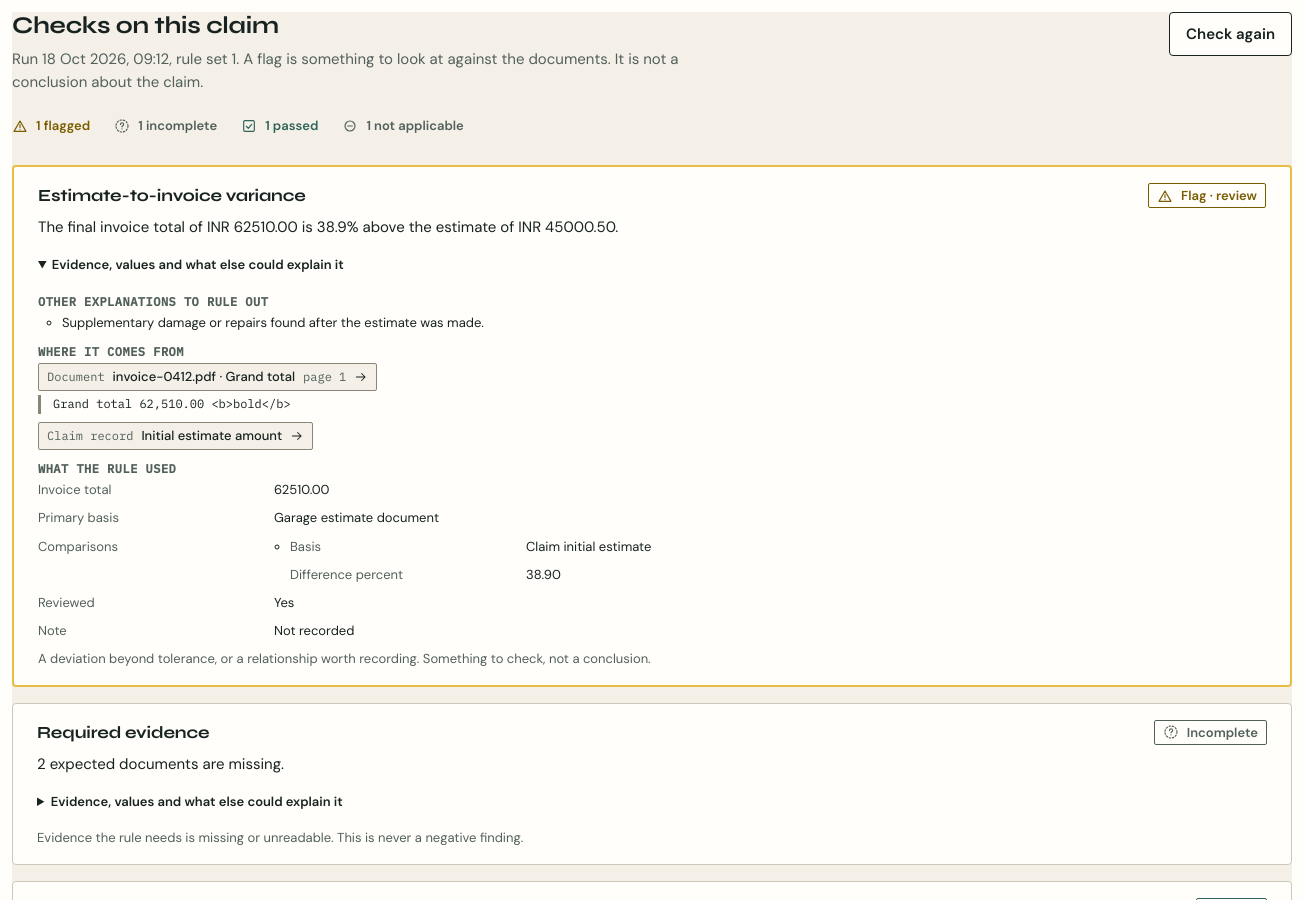
Test: a stored run › keeps routine results folded and states what a missing document means
Expected: the text "never a negative finding" is shown, [37,829,523,846]
Click the heading "Evidence, values and what else could explain it" below "Required evidence" at [265, 801], box [51,792,479,810]
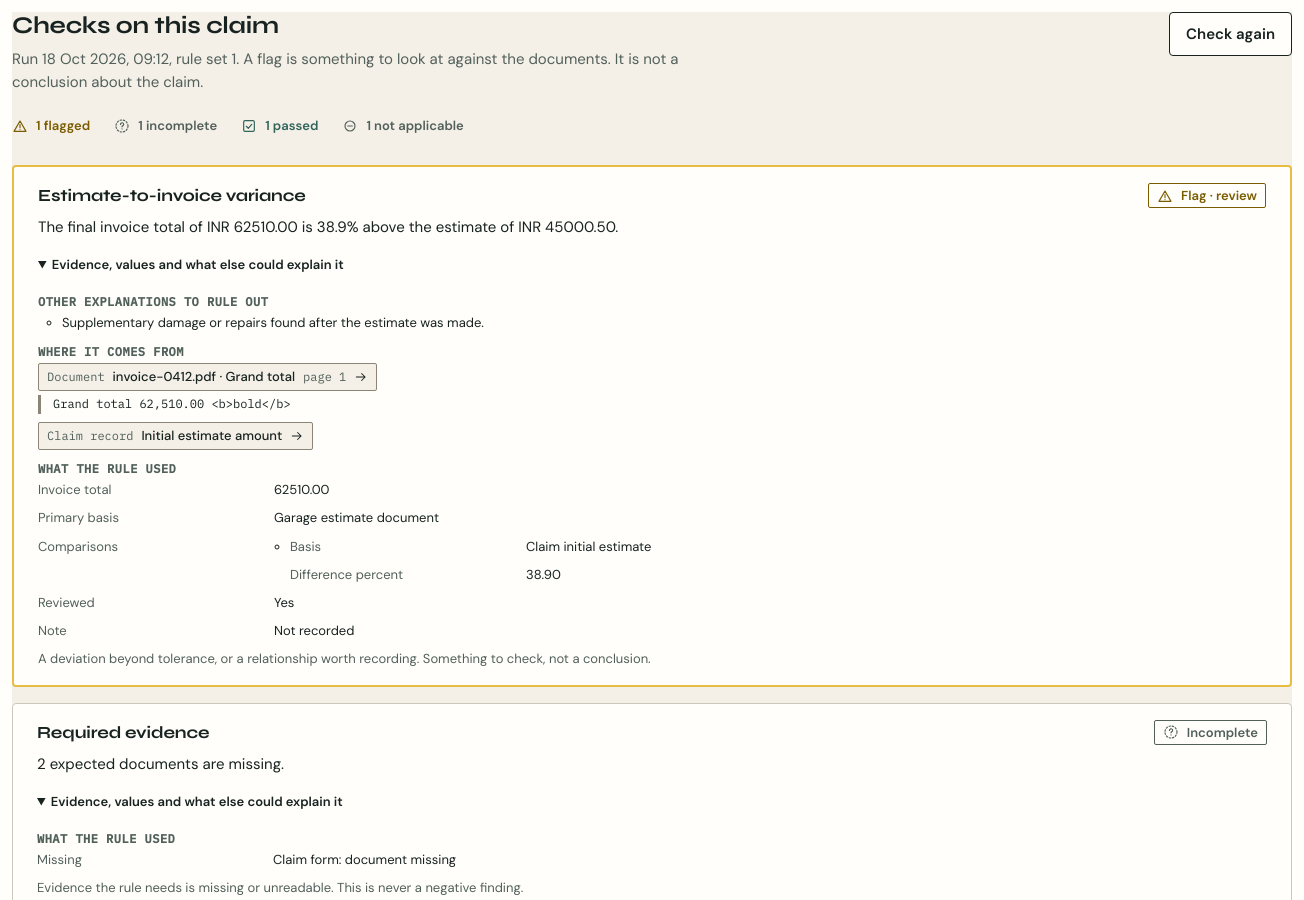
Expected: the text "Claim form: document missing" is shown, [273,851,456,868]
